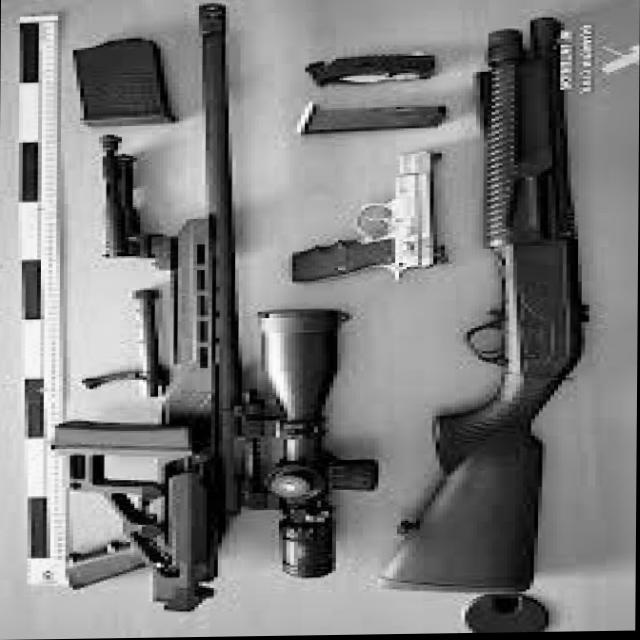handgun: (291, 151, 450, 287)
rifle: (372, 21, 591, 595), (51, 4, 250, 614)
